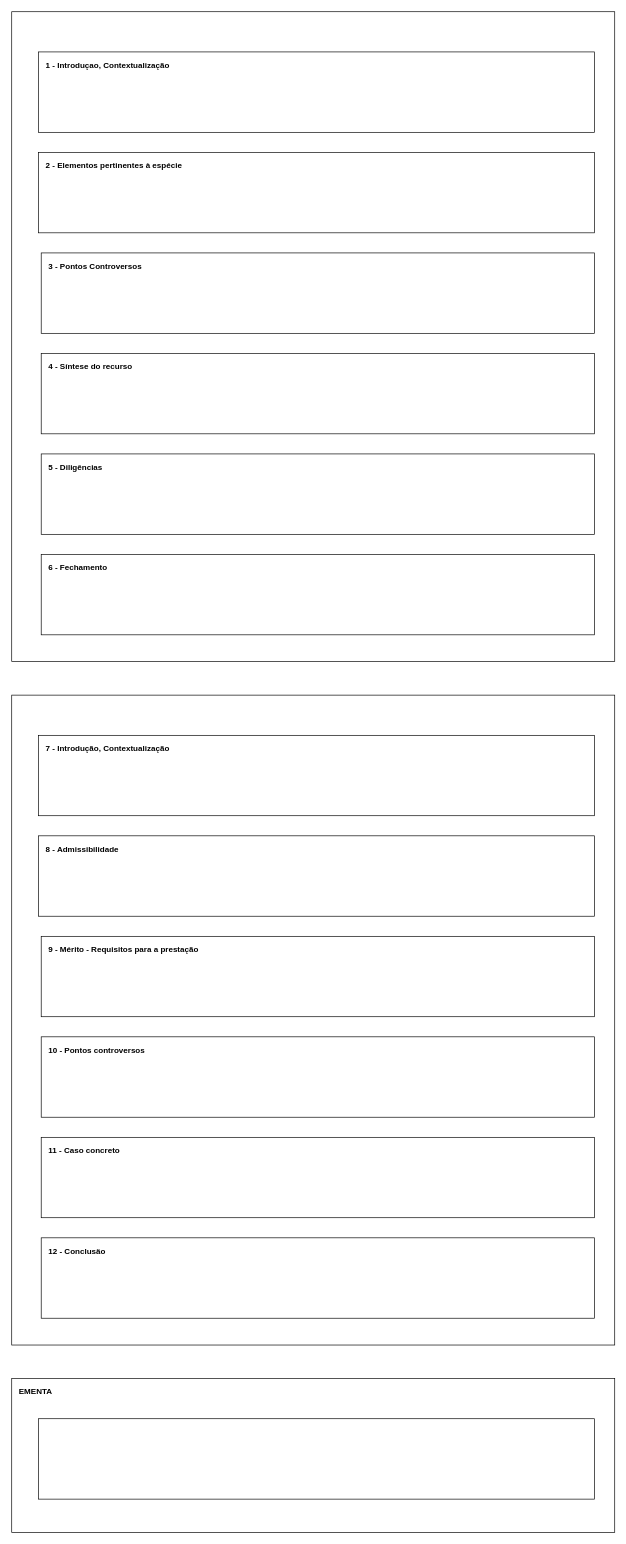
This 626x1544 diagram has some shape labels left out. Here are the shapes that lost their labels. From the top down, the box of each, then its label:
(11, 11, 615, 662): RELATÓRIO
(11, 694, 615, 1345): VOTO
(38, 1418, 595, 1499): 13 - Ementa
